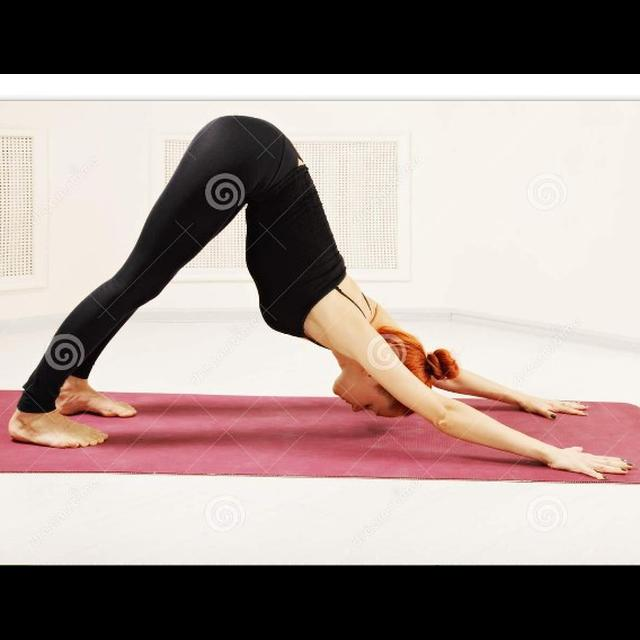Downward-Facing_Dog: (6, 110, 637, 482)
